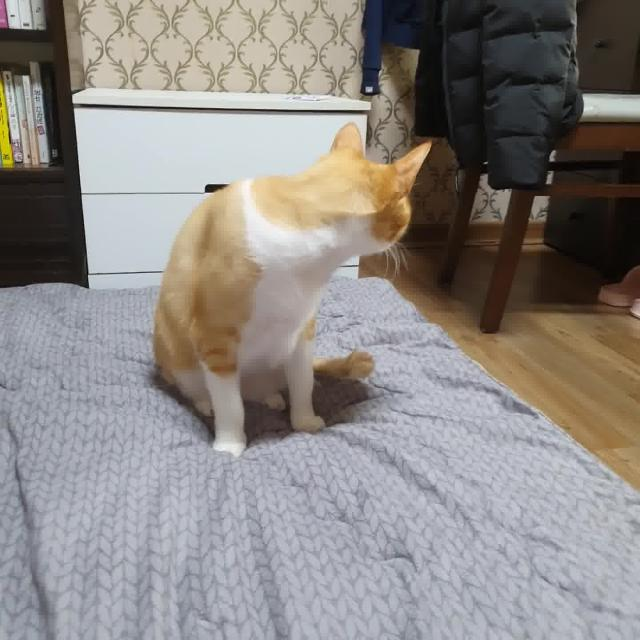cat: (151, 120, 440, 462)
